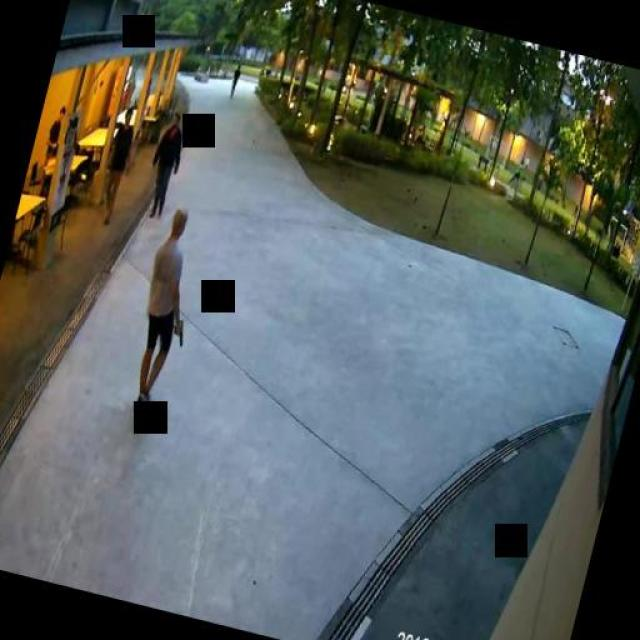gun: (168, 316, 188, 346)
